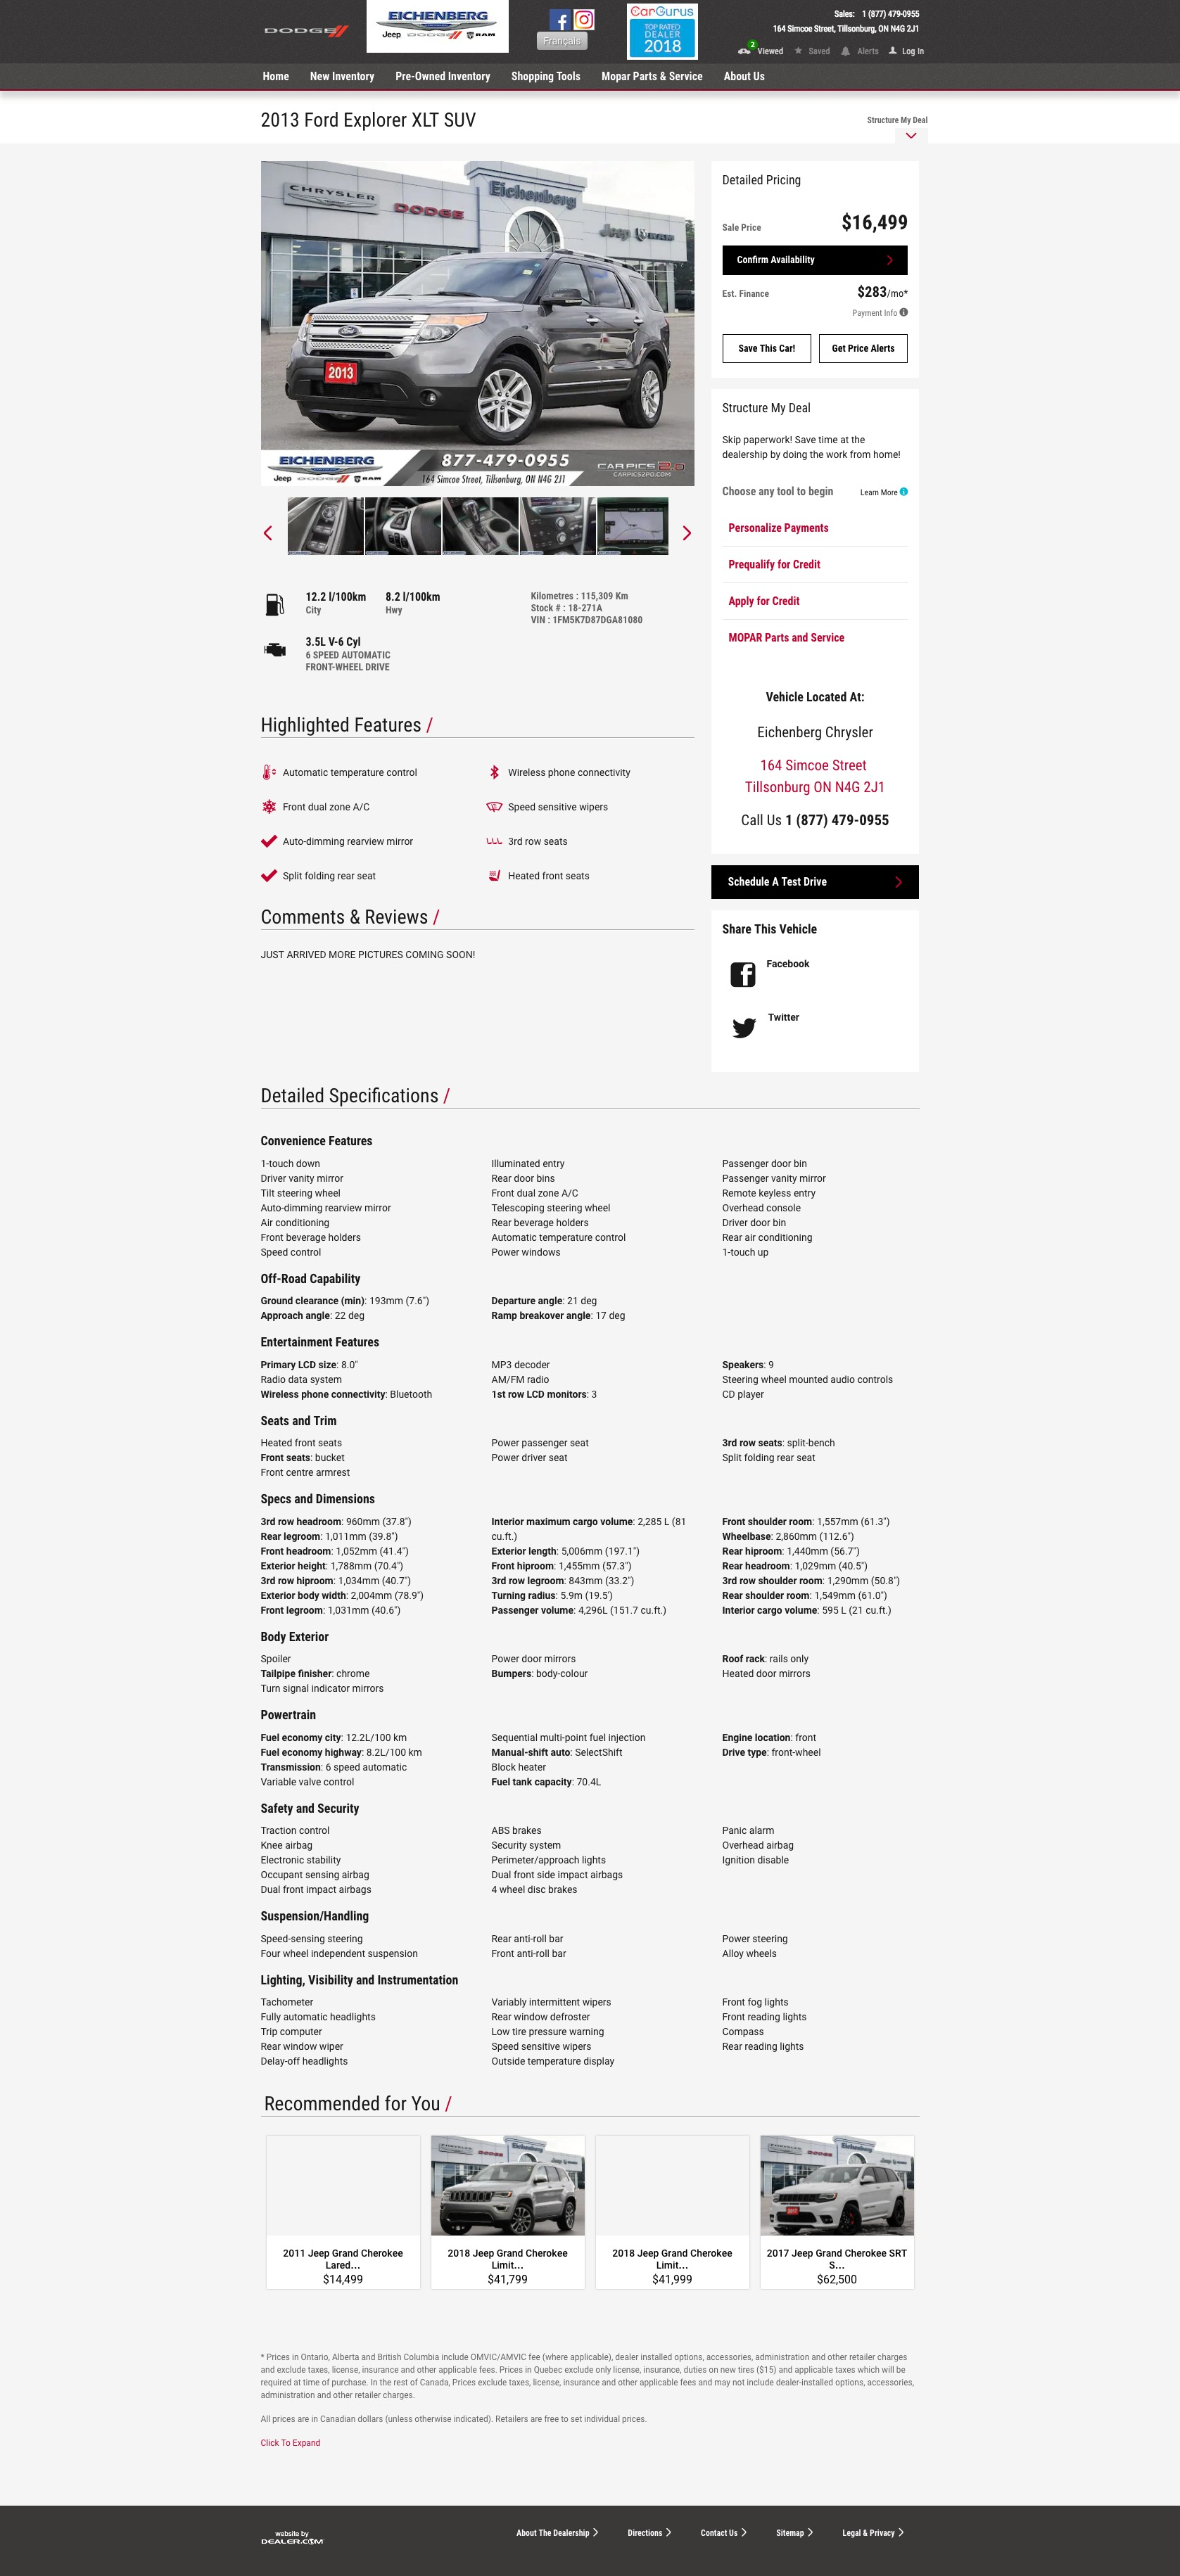car: (684, 526, 692, 542)
